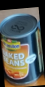beans: (1, 13, 40, 86)
